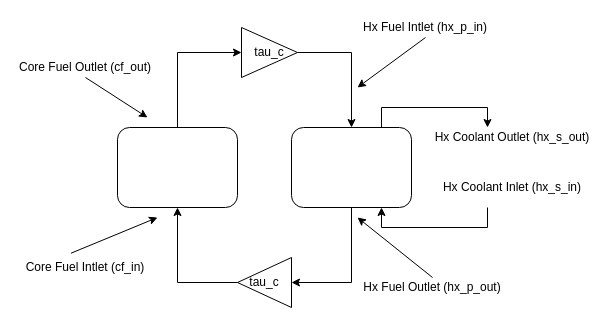
Image size: 614x325. Some labels were removed from this diagram. Here are the shapes that lost their labels. From the top down, the box of each, then its label:
(116, 126, 238, 208): Core
(290, 126, 412, 208): Heat Exchanger
